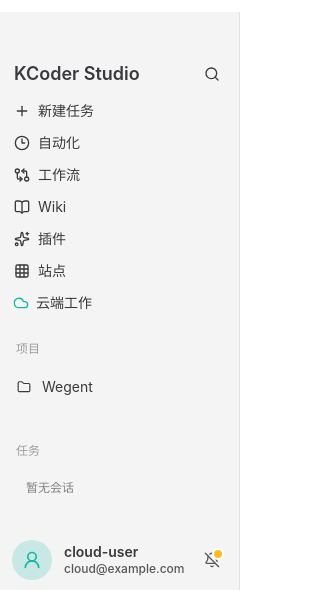
DesktopSidebar account › shows the cloud username and email after login
Click the button with test id "settings-button" at (120, 560), box x1=6 y1=530 x2=234 y2=590
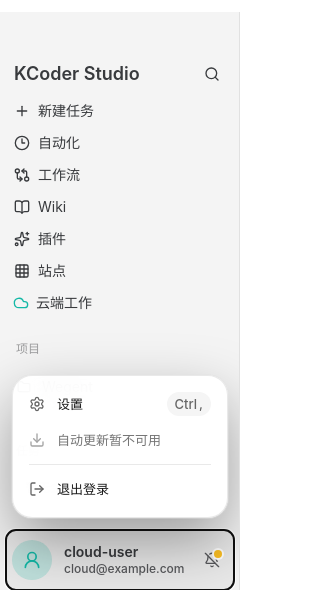
Check: the element with test id "settings-menu" is shown, box x1=12 y1=375 x2=228 y2=518
Check: the button with test id "logout-menu-button" reads "退出登录"
Click the button with test id "logout-menu-button" at (120, 489), box x1=13 y1=471 x2=227 y2=507
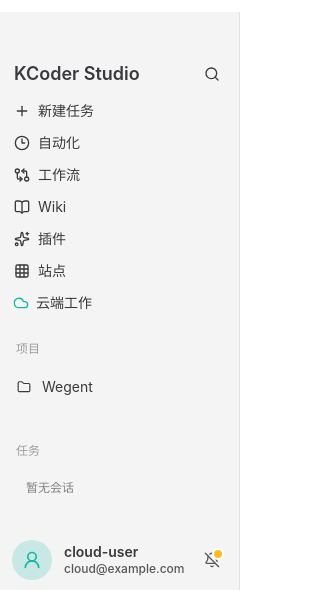
Check: the element with test id "settings-menu" is gone
